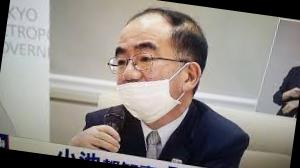mask_weared_incorrect: (99, 35, 185, 113)
